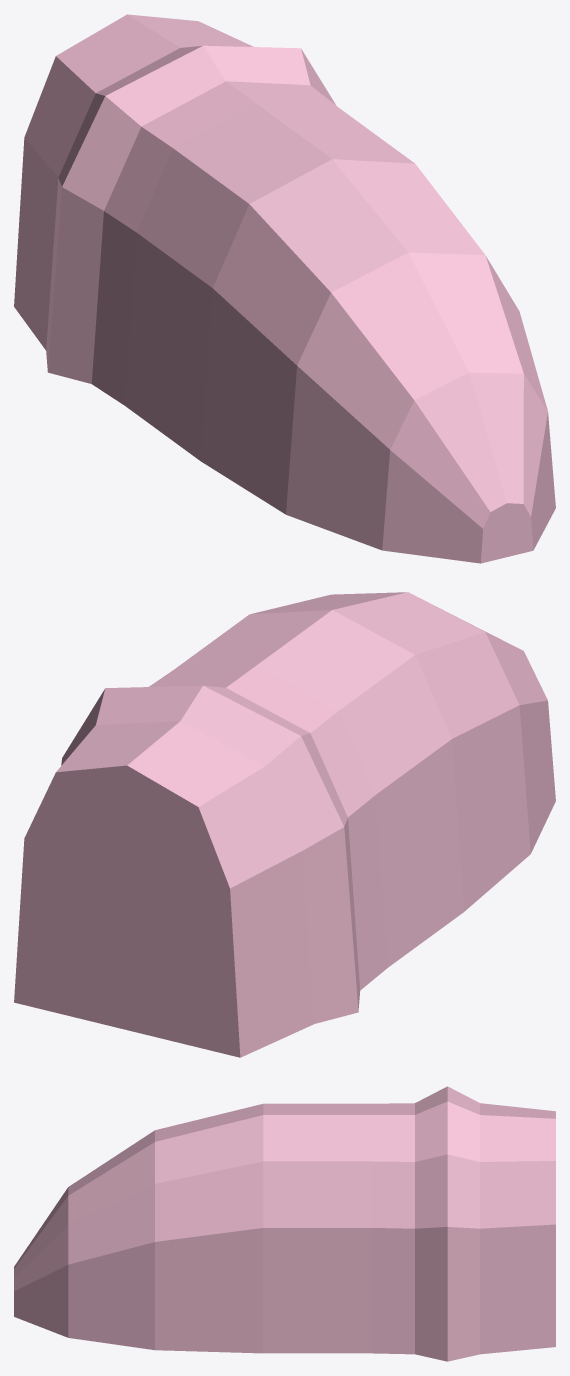
File: SM_Crew_Feet_Slipper_L.fbx
3 renders of one model, top to bottom at view 1: azimuth 30°, elevation 25°; view 2: azimuth 150°, elevation 25°; view 3: azimuth 270°, elevation 25°, orthographic. The views are drawn at different scales.
Parts seen in each view (by area): view 1: SM_Crew_Feet_Slipper_L; view 2: SM_Crew_Feet_Slipper_L; view 3: SM_Crew_Feet_Slipper_L.
Boxes of the visible parts, bbox=[...] form: SM_Crew_Feet_Slipper_L: bbox=[14, 14, 555, 563]; SM_Crew_Feet_Slipper_L: bbox=[14, 592, 555, 1057]; SM_Crew_Feet_Slipper_L: bbox=[14, 1086, 555, 1361].
Bounding box in the file's own units: 0.2037 × 0.181 × 0.4314.
